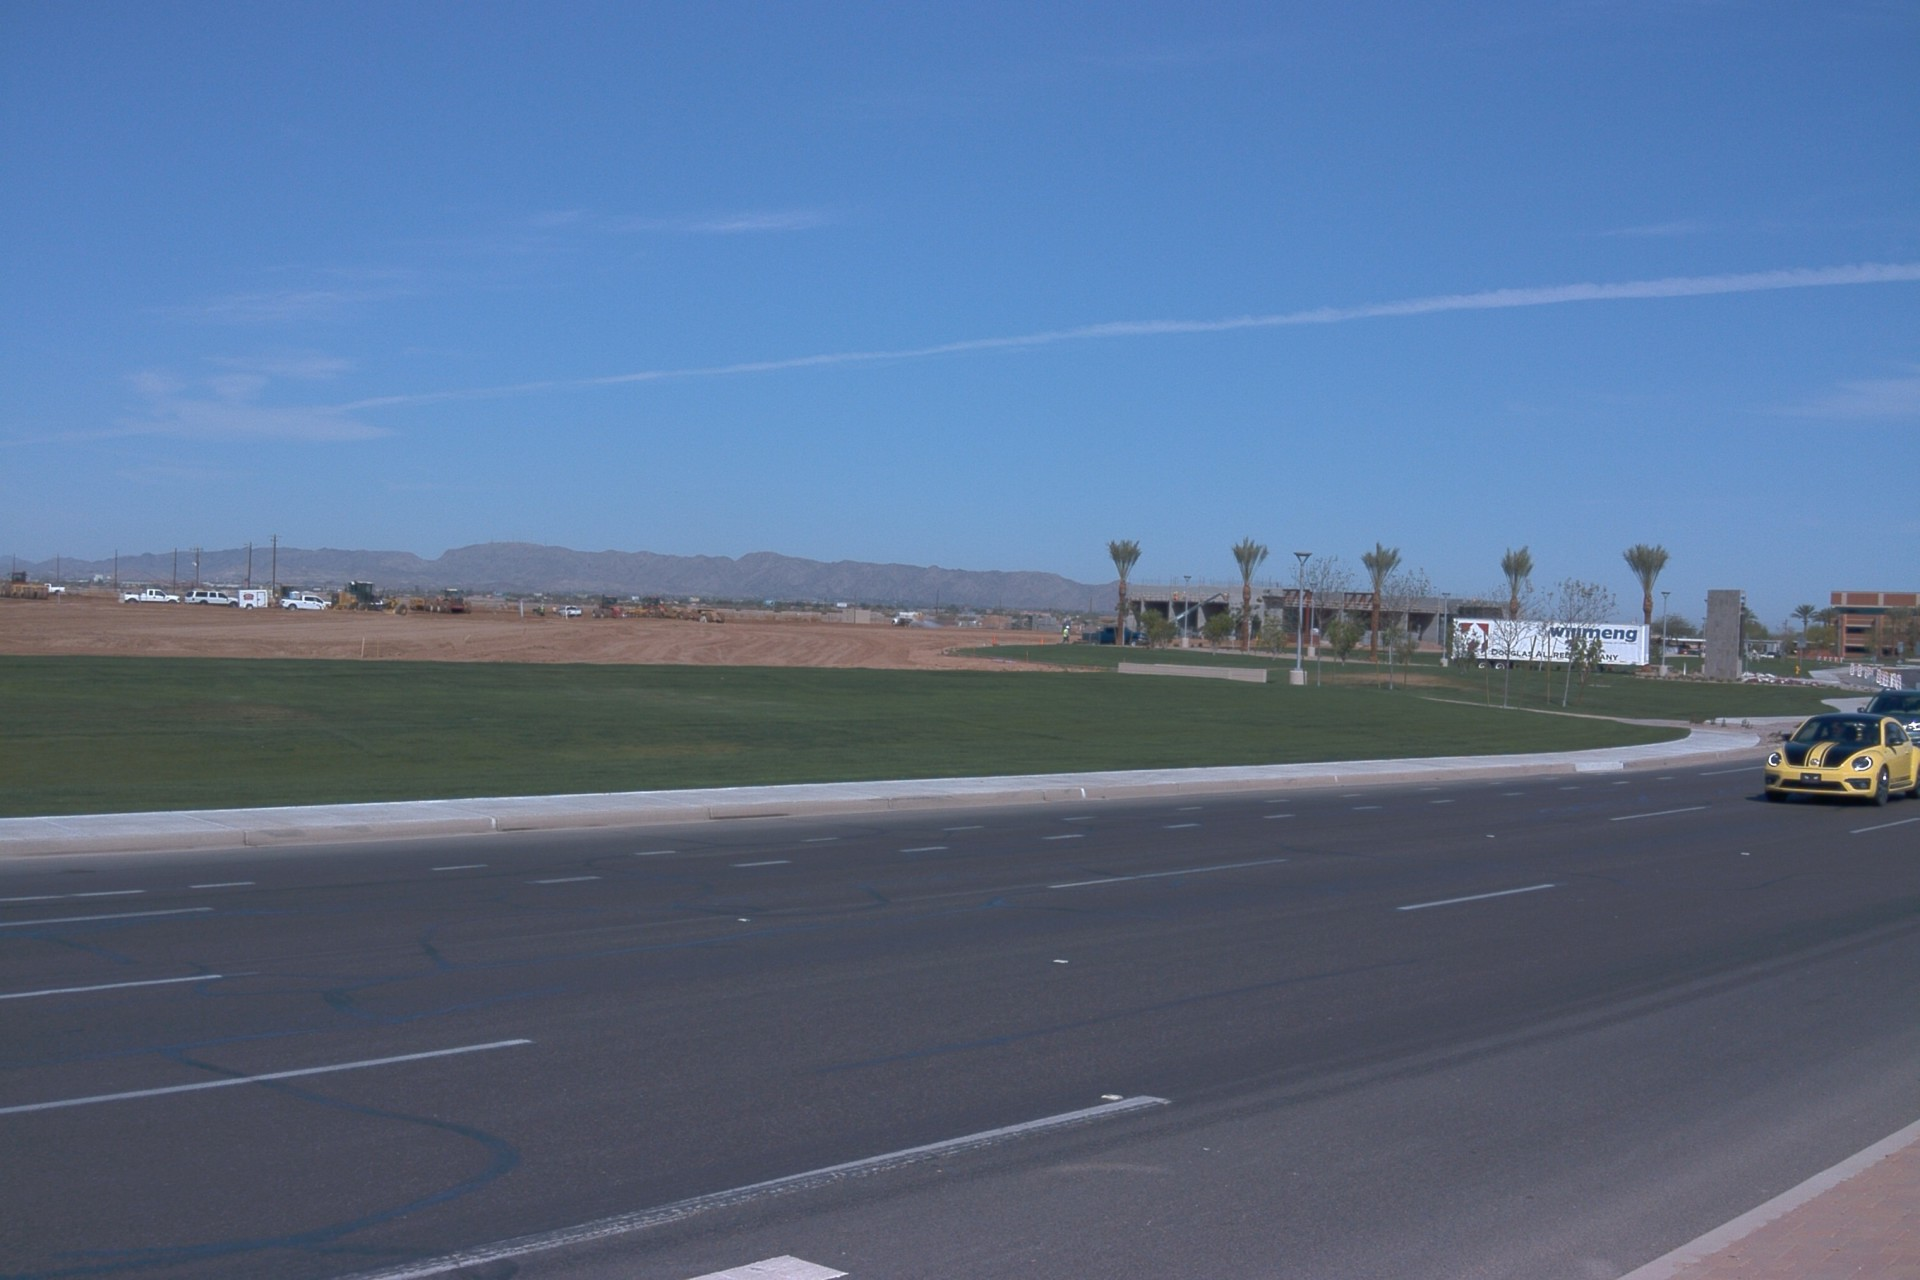TYPE_PEDESTRIAN: (1062, 626, 1070, 647), (550, 603, 559, 617), (538, 605, 545, 619)
TYPE_VEHICLE: (1764, 711, 1920, 807), (1451, 617, 1653, 675), (315, 576, 405, 619), (1854, 687, 1919, 746), (1165, 587, 1229, 628), (409, 585, 470, 615), (1082, 627, 1148, 649), (123, 586, 182, 604), (185, 589, 245, 606), (281, 591, 334, 609), (886, 609, 929, 629), (235, 589, 270, 609), (272, 581, 295, 599), (558, 605, 582, 618), (44, 580, 66, 594)
